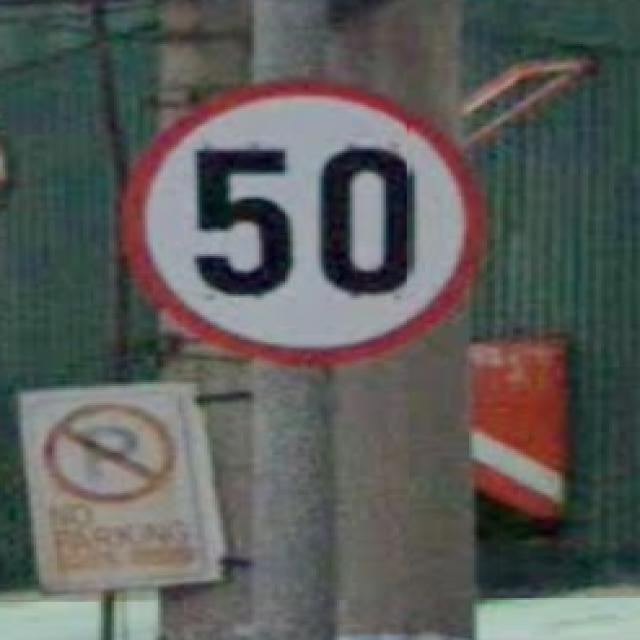50 kph: (114, 76, 485, 365)
